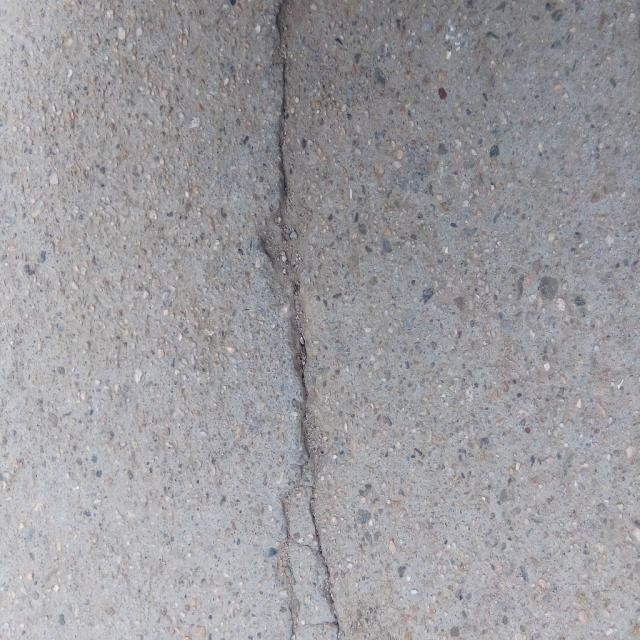cracks: (244, 0, 369, 640)
